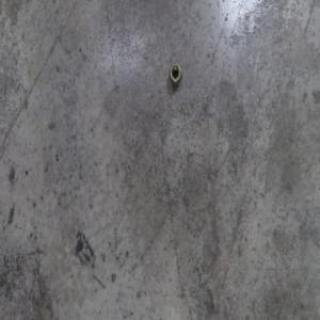Nuttrack_idkeyframe: (167, 61, 181, 88)
